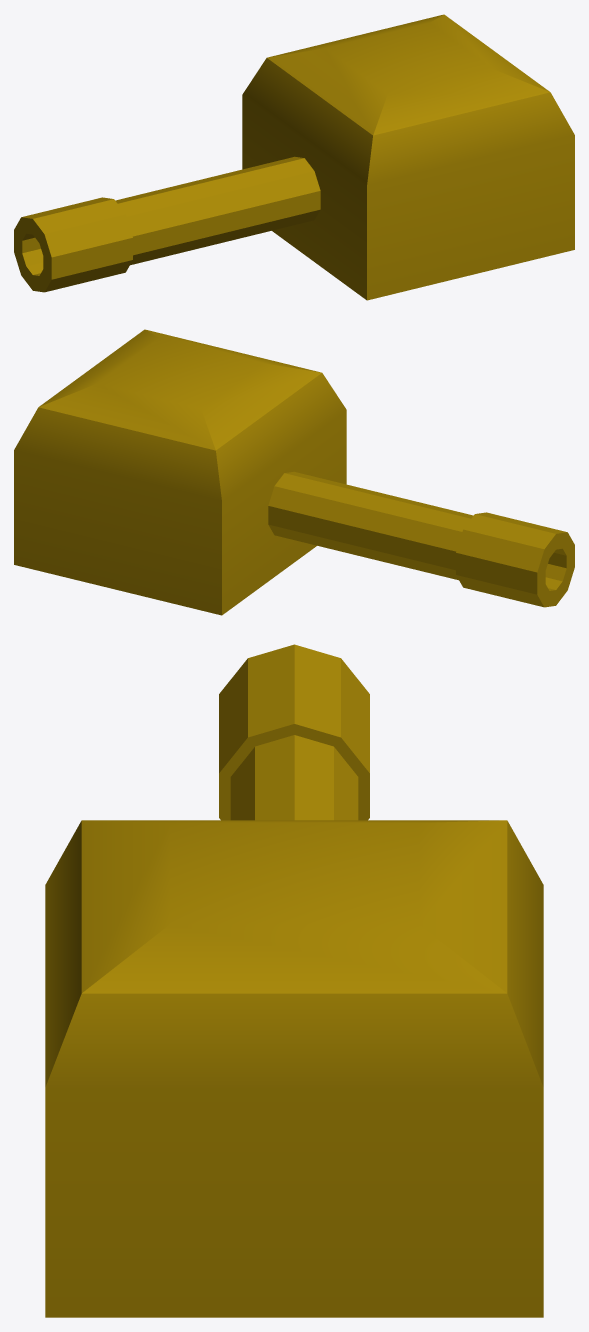
File: Gun.fbx
3 views of the same model, one above another, from view 1: azimuth 30°, elevation 25°; view 2: azimuth 150°, elevation 25°; view 3: azimuth 270°, elevation 25° (orthographic). The views are drawn at different scales.
Parts seen in each view (by area): view 1: pCube5; view 2: pCube5; view 3: pCube5.
Part boxes in pixels (x1,y1,x2,y2): pCube5: [14, 14, 574, 300]; pCube5: [14, 329, 574, 615]; pCube5: [45, 644, 543, 1317].
Size of the model in its own units: 16.53 by 5.63 by 7.44.
